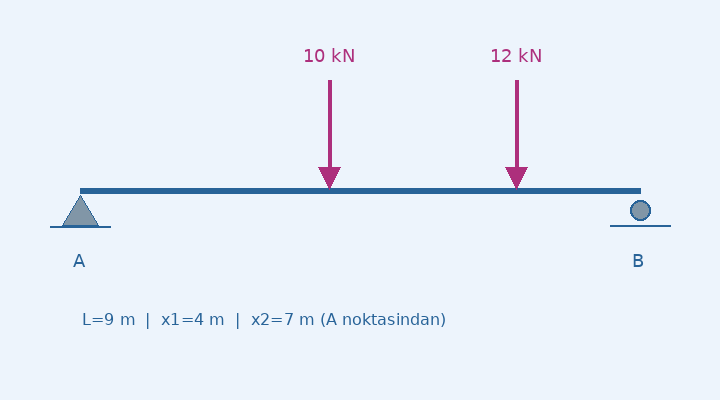pin_support: (61, 190, 99, 226)
point_load: (315, 76, 343, 190), (502, 76, 530, 190)
roller_support: (625, 196, 655, 227)
